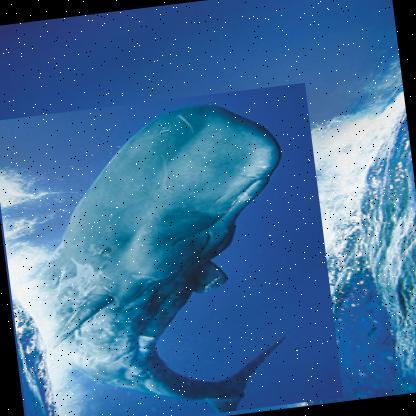sperm_whale: (0, 80, 343, 415)
